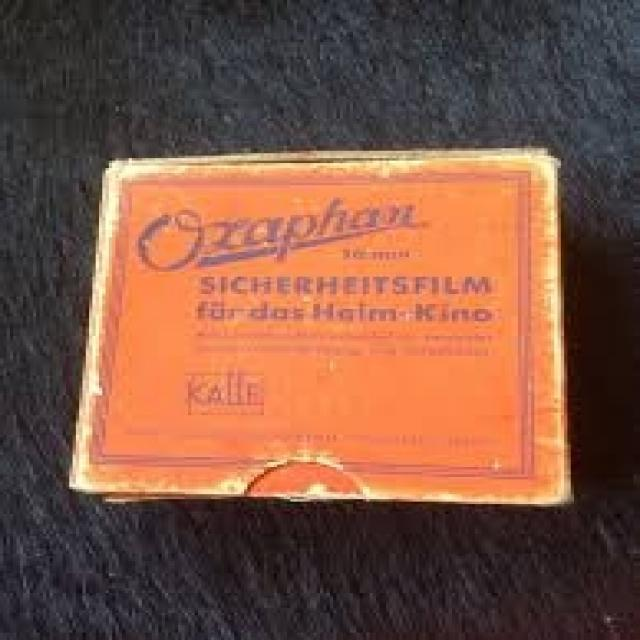cardboard paper: (70, 149, 569, 502)
